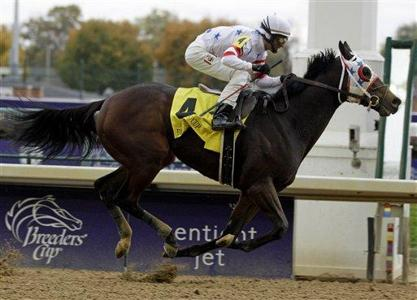person: (185, 11, 298, 127)
